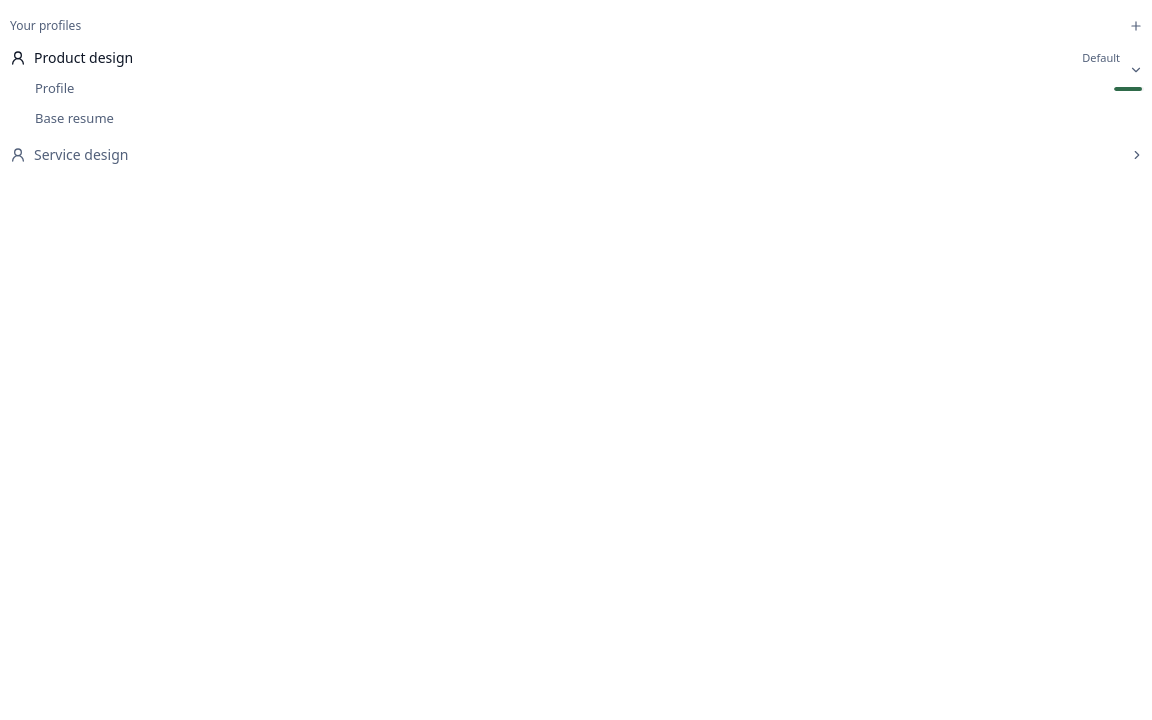
it: SidebarProfiles (E27-5) › opens the New profile dialog from +
Click the button named "New profile" at x=1136, y=26, box x1=1124 y1=14 x2=1148 y2=38
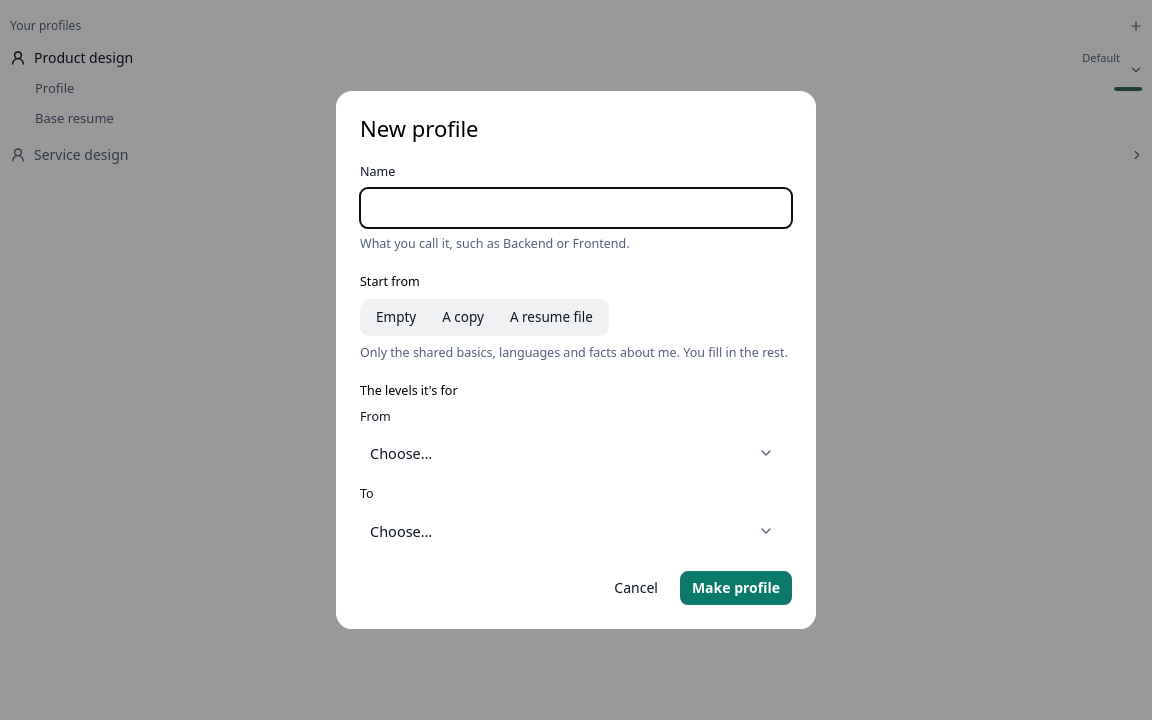
Now the dialog "New profile" is shown, box x1=336 y1=91 x2=816 y2=629
